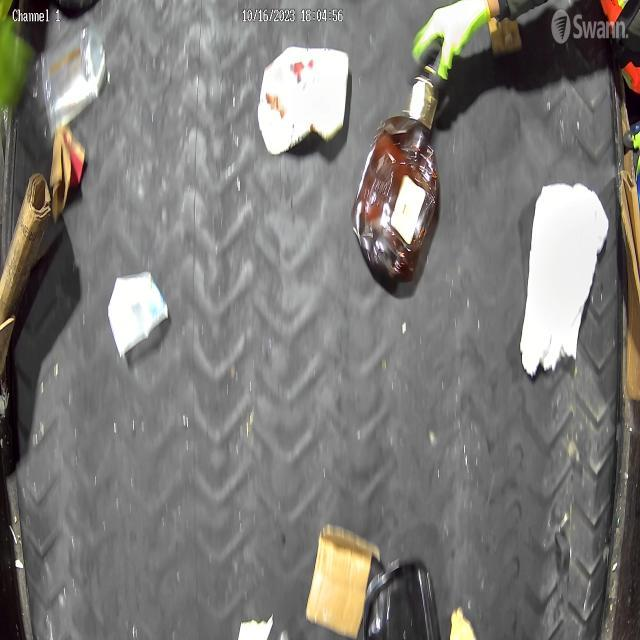can: (42, 26, 108, 140)
milk_jug: (256, 46, 351, 155)
